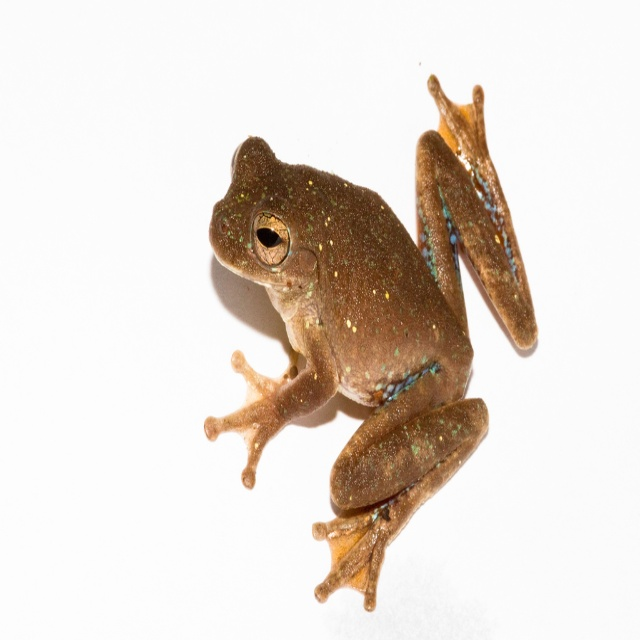Frog: (207, 70, 539, 615)
